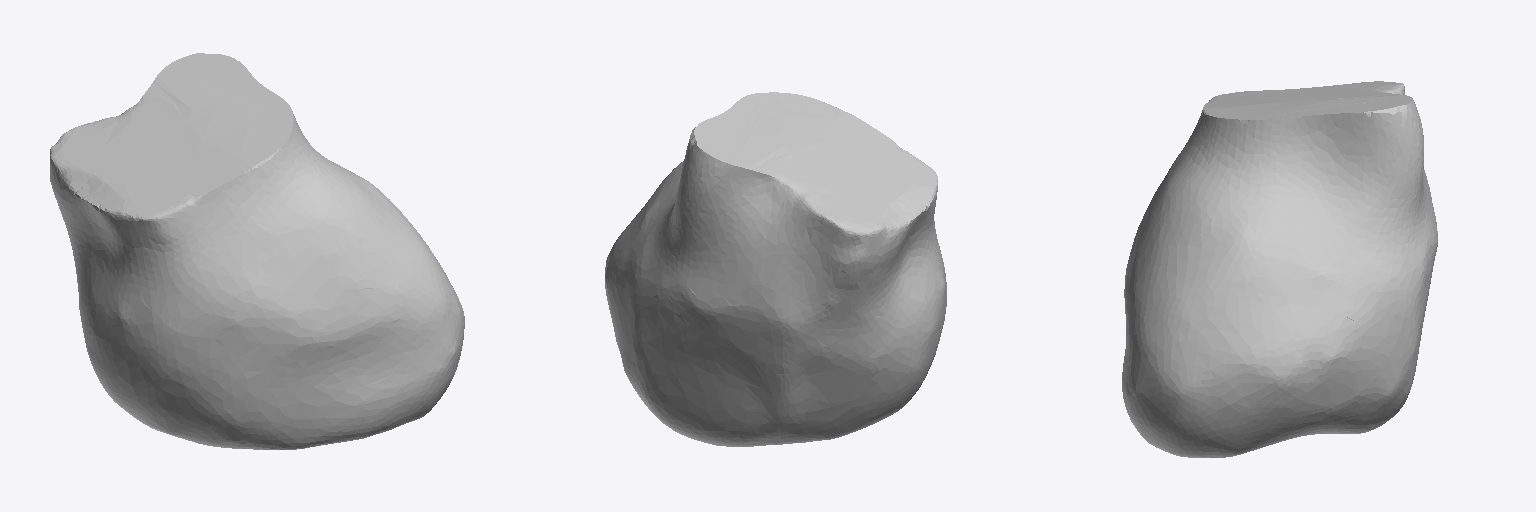
3 renders of one model, left to right at view 1: azimuth 30°, elevation 25°; view 2: azimuth 150°, elevation 25°; view 3: azimuth 270°, elevation 25°, orthographic.
Parts seen in each view (by area): view 1: Polygonal_Model_6_Triangles_0; view 2: Polygonal_Model_6_Triangles_0; view 3: Polygonal_Model_6_Triangles_0.
Part boxes in pixels (x1,y1,x2,y2): Polygonal_Model_6_Triangles_0: (50,53,464,449); Polygonal_Model_6_Triangles_0: (605,92,946,446); Polygonal_Model_6_Triangles_0: (1122,81,1437,457).
Size of the model in its own units: 2.11 by 1.96 by 1.78.